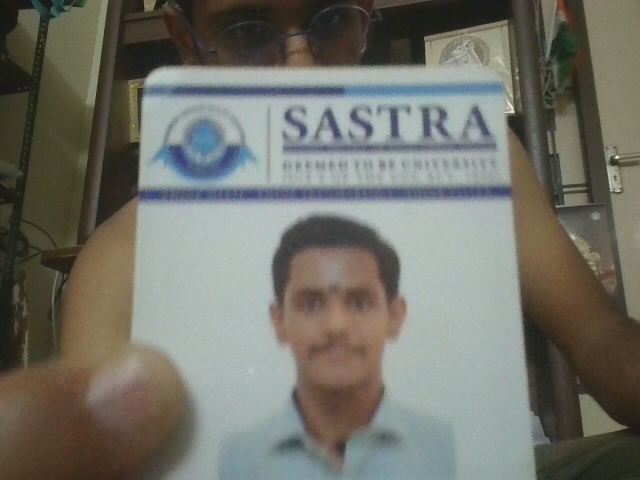fake: (267, 247, 404, 384)
